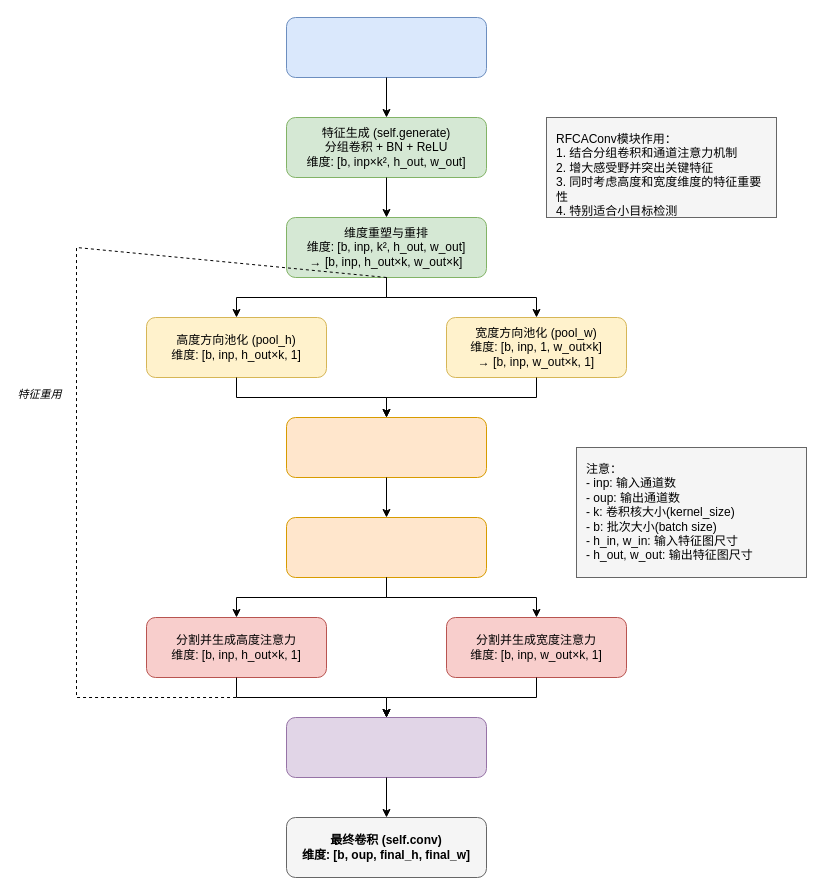
The diagram is 824 pixels wide and 895 high, and some of its shapes have lost their labels. Here are the shapes that lost their labels. From the top down, the box of each, then its label:
(286, 16, 486, 78): 输入张量 x 维度: [b, inp, h_in, w_in]
(286, 416, 486, 478): 特征拼接 (concat) 维度: [b, inp, (h_out×k + w_out×k), 1]
(286, 516, 486, 578): 通道降维 (conv1 + bn1 + act) 维度: [b, mip, (h_out×k + w_out×k), 1]
(286, 716, 486, 778): 特征与注意力融合 维度: [b, inp, h_out×k, w_out×k]
